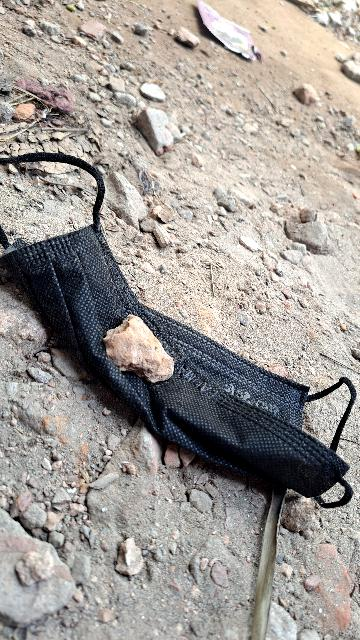mask: (0, 185, 360, 529)
